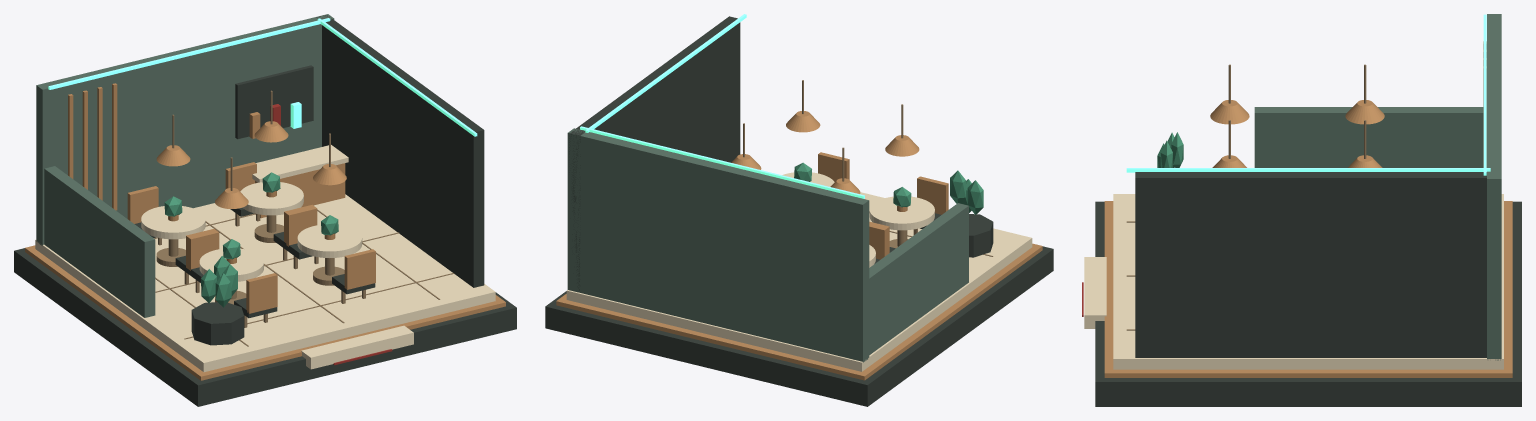
File: restaurant-cube.glb
The picture shows the model from 3 angles, left to right: view 1: azimuth 30°, elevation 25°; view 2: azimuth 150°, elevation 25°; view 3: azimuth 270°, elevation 25°; orthographic projection. The views are drawn at different scales.
Parts seen in each view (by area): view 1: Back wall, Right wall, Restaurant floor, Square floating plinth, Left low divider, Copper reveal band, Back niche, Entry step, Planter, Service counter stone, Table 2 | ivory top, Table 3 | ivory top (+19 smaller); view 2: Back wall, Square floating plinth, Right wall, Left low divider, Restaurant floor, Copper reveal band, Table 1 | ivory top, Mint back edge, Planter, Mint side edge, Chair 1-1 | back, Chair 2-1 | back (+3 smaller); view 3: Right wall, Square floating plinth, Left low divider, Restaurant floor, Copper reveal band, Back wall, Entry step, Mint side edge, Pendant | warm shade, Pendant | warm shade.002, Mint back edge.
Boxes of the visible parts, x1,y1,x2,y2 form: Back wall: (36,14,334,245); Right wall: (316,15,484,287); Restaurant floor: (35,194,495,372); Square floating plinth: (14,248,516,406); Left low divider: (44,166,155,317); Copper reveal band: (25,245,505,380); Back niche: (235,65,313,139); Entry step: (301,325,413,369); Planter: (191,302,244,345); Service counter stone: (252,145,348,182); Table 2 | ivory top: (297,224,362,257); Table 3 | ivory top: (141,206,205,239); Back wall: (567,128,869,362); Square floating plinth: (545,246,1053,406); Right wall: (569,16,740,290); Left low divider: (869,203,968,354); Restaurant floor: (566,197,1032,371); Copper reveal band: (556,243,1042,380); Table 1 | ivory top: (869,196,934,230); Mint back edge: (580,126,864,198); Planter: (969,214,993,257); Mint side edge: (585,14,746,132); Chair 1-1 | back: (917,176,948,214); Chair 2-1 | back: (818,152,849,181); Right wall: (1135,172,1486,357); Square floating plinth: (1095,201,1521,406); Left low divider: (1254,107,1483,167); Restaurant floor: (1113,194,1503,369); Copper reveal band: (1104,201,1512,377); Back wall: (1487,14,1501,360); Entry step: (1084,257,1106,328); Mint side edge: (1126,168,1490,172); Pendant | warm shade: (1210,100,1249,124); Pendant | warm shade.002: (1345,100,1384,124); Mint back edge: (1483,14,1486,175).
Size of the model in its own units: 6.5 by 3.75 by 6.7.
